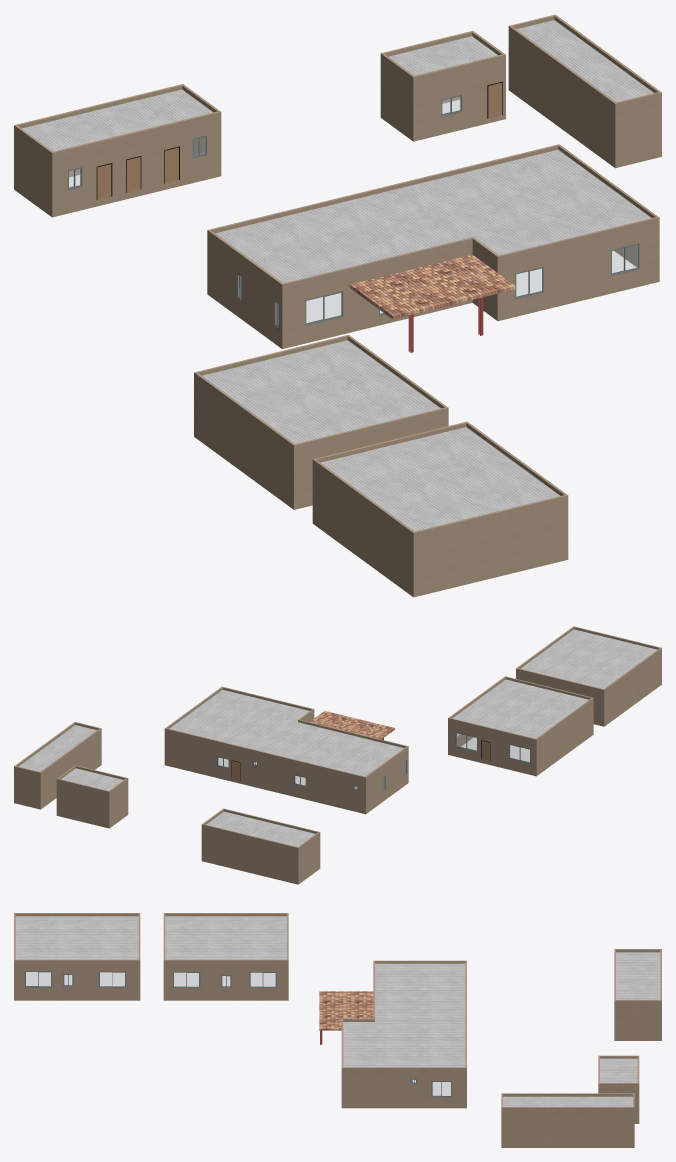
The model's file is Plan(REF)_levels(1)_window(REF)_wall(EIFS)_quoin(N)_cornice(N).fbx.
3 renders of one model, top to bottom at view 1: azimuth 30°, elevation 25°; view 2: azimuth 150°, elevation 25°; view 3: azimuth 270°, elevation 25°, orthographic. The views are drawn at different scales.
Visible parts, largest first — view 1: EIFS, WAFRA Roof - Corrugated Sheet Matte 23, Tile - Roofing - Spanish, Glass - Clear, Color - Sand, Metal - Finish - Aluminum; view 2: EIFS, WAFRA Roof - Corrugated Sheet Matte 23, Tile - Roofing - Spanish, Glass - Clear, Metal - Finish - Aluminum; view 3: WAFRA Roof - Corrugated Sheet Matte 23, EIFS, Tile - Roofing - Spanish, Glass - Clear, Metal - Finish - Aluminum.
Boxes of the visible parts, left/top/right/bottom form: EIFS: left=14, top=14, right=661, bottom=597; WAFRA Roof - Corrugated Sheet Matte 23: left=22, top=20, right=653, bottom=531; Tile - Roofing - Spanish: left=349, top=254, right=515, bottom=319; Glass - Clear: left=69, top=97, right=637, bottom=324; Color - Sand: left=97, top=82, right=502, bottom=199; Metal - Finish - Aluminum: left=68, top=94, right=639, bottom=328; EIFS: left=14, top=626, right=661, bottom=884; WAFRA Roof - Corrugated Sheet Matte 23: left=19, top=629, right=656, bottom=846; Tile - Roofing - Spanish: left=310, top=711, right=394, bottom=739; Glass - Clear: left=218, top=733, right=529, bottom=789; Metal - Finish - Aluminum: left=217, top=732, right=530, bottom=791; WAFRA Roof - Corrugated Sheet Matte 23: left=15, top=916, right=660, bottom=1106; EIFS: left=14, top=913, right=661, bottom=1147; Tile - Roofing - Spanish: left=319, top=991, right=373, bottom=1030; Glass - Clear: left=26, top=972, right=450, bottom=1095; Metal - Finish - Aluminum: left=24, top=971, right=451, bottom=1097.
Size of the model in its own units: 4148 by 5833 by 400.
13 materials, 5 textured.
